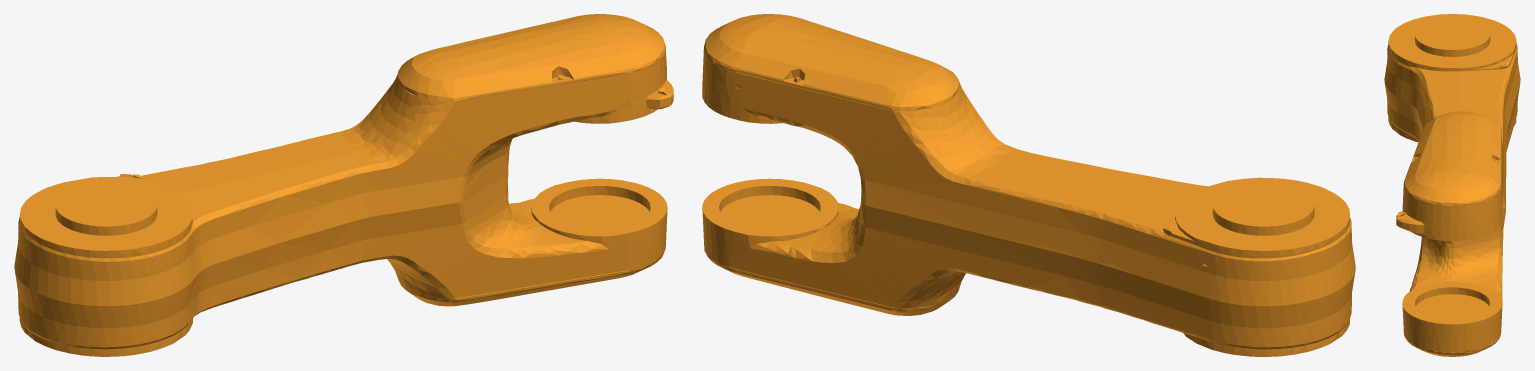
Rendered from KukaKR10Link2.dae.
The picture shows the model from 3 angles, left to right: view 1: azimuth 30°, elevation 25°; view 2: azimuth 150°, elevation 25°; view 3: azimuth 270°, elevation 25°; orthographic projection. The views are drawn at different scales.
Visible parts, largest first — view 1: KR10Link2; view 2: KR10Link2; view 3: KR10Link2.
Boxes of the visible parts, <box> form: KR10Link2: <box>14,14,673,356</box>; KR10Link2: <box>702,14,1355,356</box>; KR10Link2: <box>1384,14,1520,356</box>.
Bounding box in the file's own units: 0.7171 × 0.1809 × 0.26.
